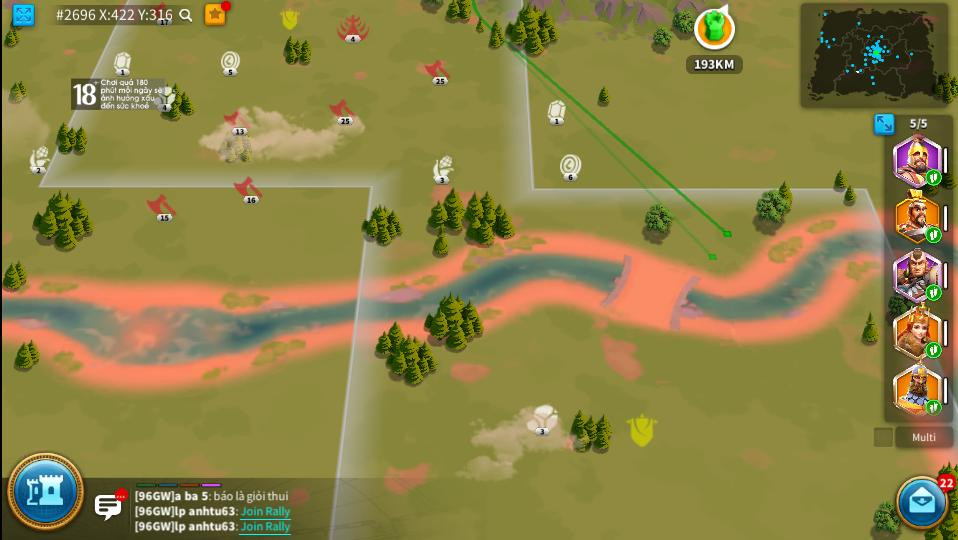gem-z-out: (546, 99, 568, 127), (111, 53, 133, 76)
march_marching: (925, 228, 942, 242), (926, 170, 940, 185), (927, 400, 941, 415), (926, 285, 940, 299), (928, 343, 940, 357)
